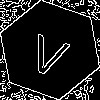V: (25, 25, 74, 79)
